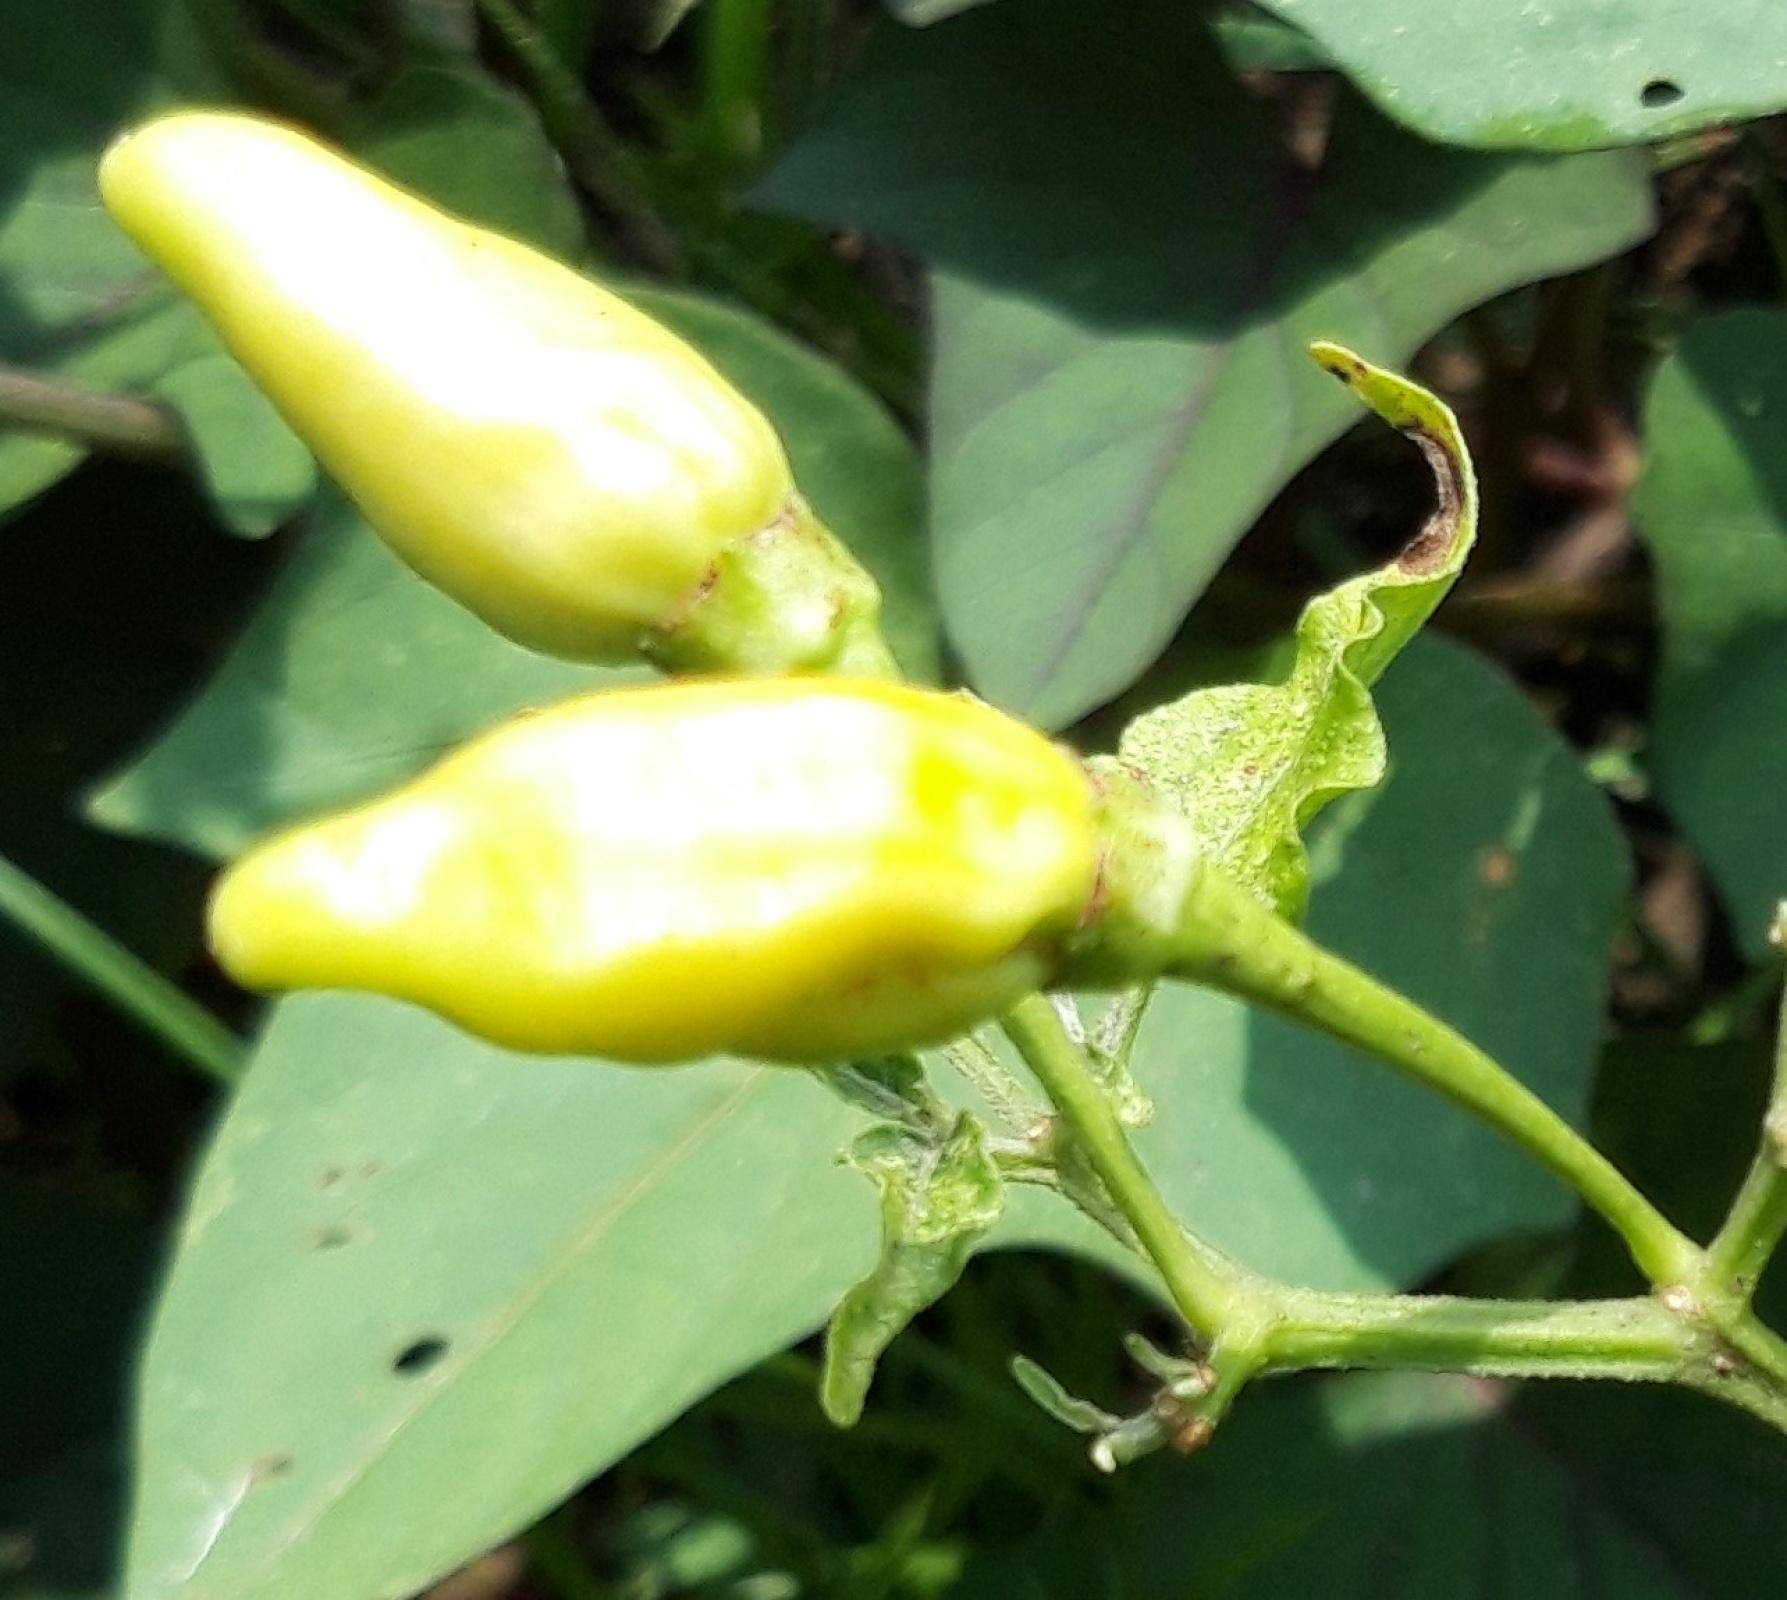cabai_normal: (96, 102, 799, 672), (199, 676, 1112, 1067)
